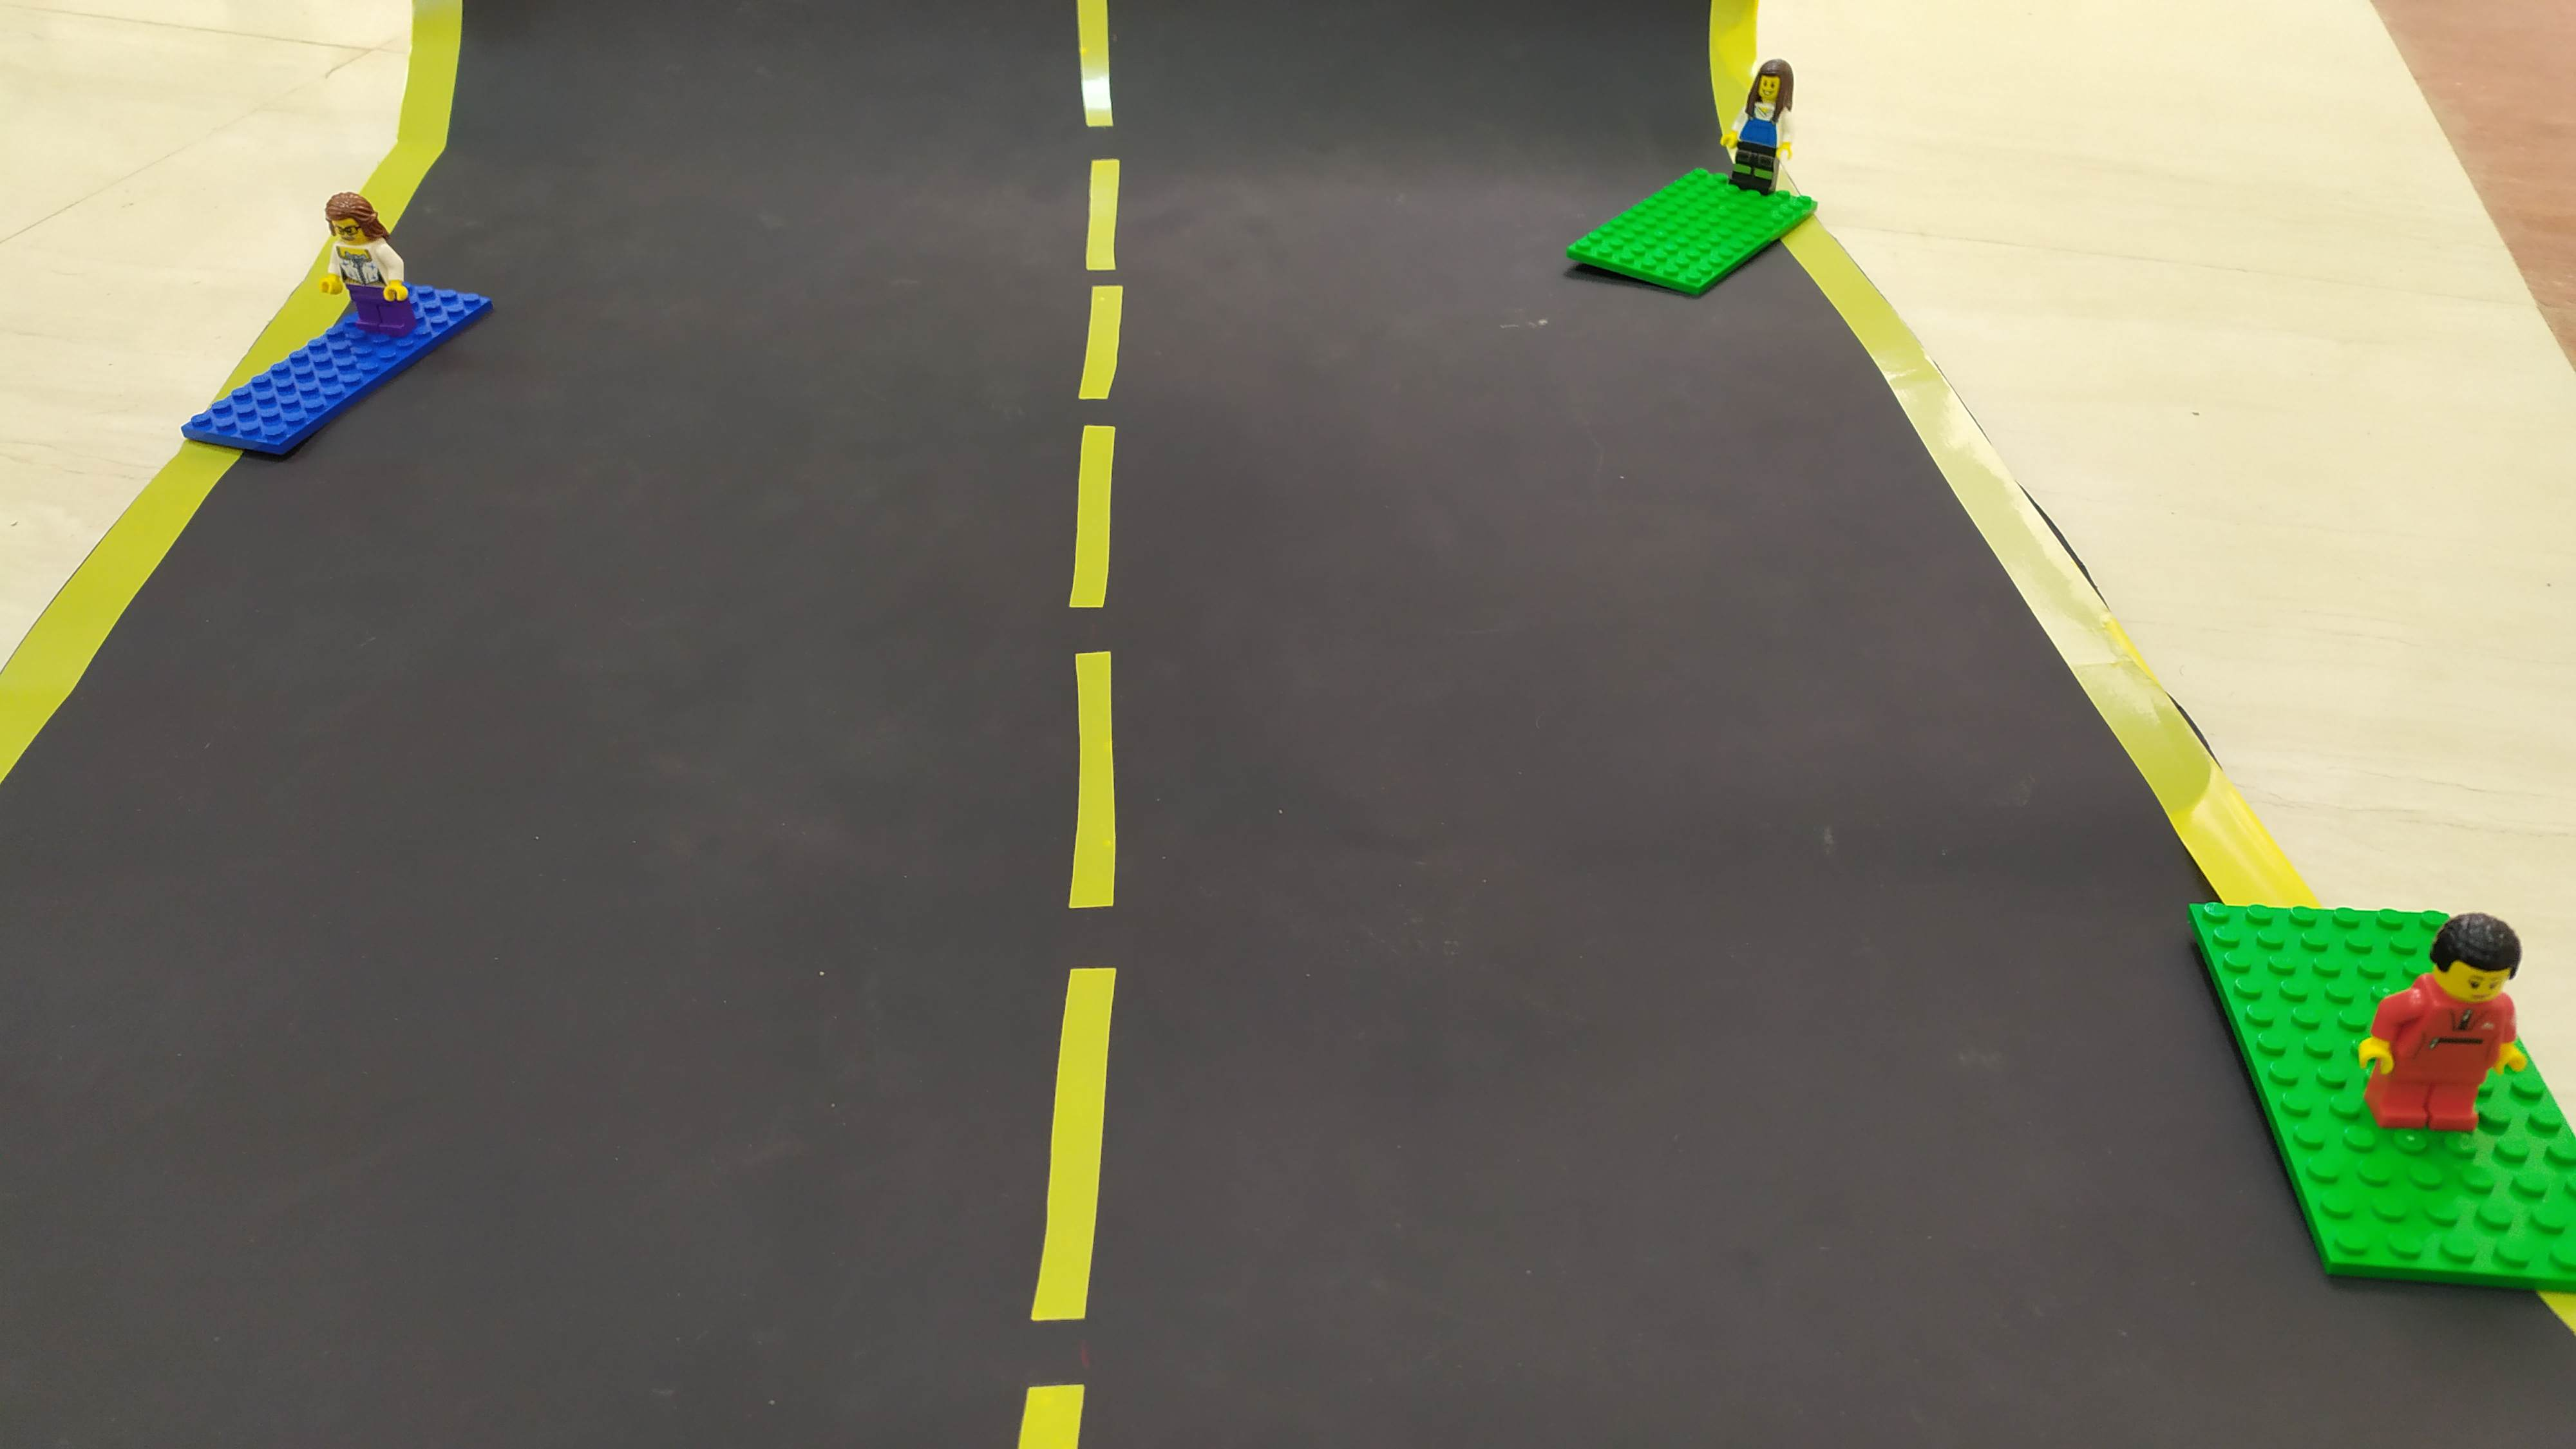Person: (2373, 905, 2528, 1150), (332, 196, 454, 364), (1710, 55, 1819, 196)
